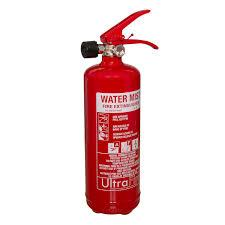fire-extinguisher: (80, 9, 158, 214)
